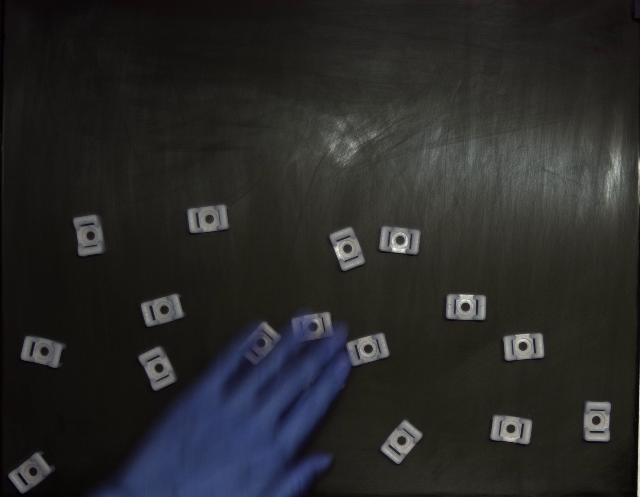first_side: (9, 452, 55, 494), (380, 420, 422, 464), (139, 346, 178, 391), (20, 336, 66, 369), (330, 228, 365, 271), (141, 294, 185, 328), (72, 215, 105, 258), (346, 334, 390, 366), (490, 415, 532, 445), (379, 226, 421, 255), (188, 205, 229, 234), (502, 334, 545, 361), (584, 401, 611, 442), (446, 295, 486, 321)
